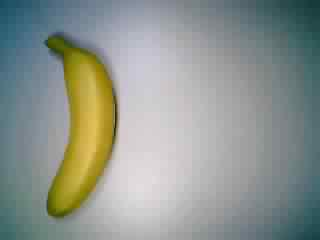banana: (37, 32, 121, 218)
